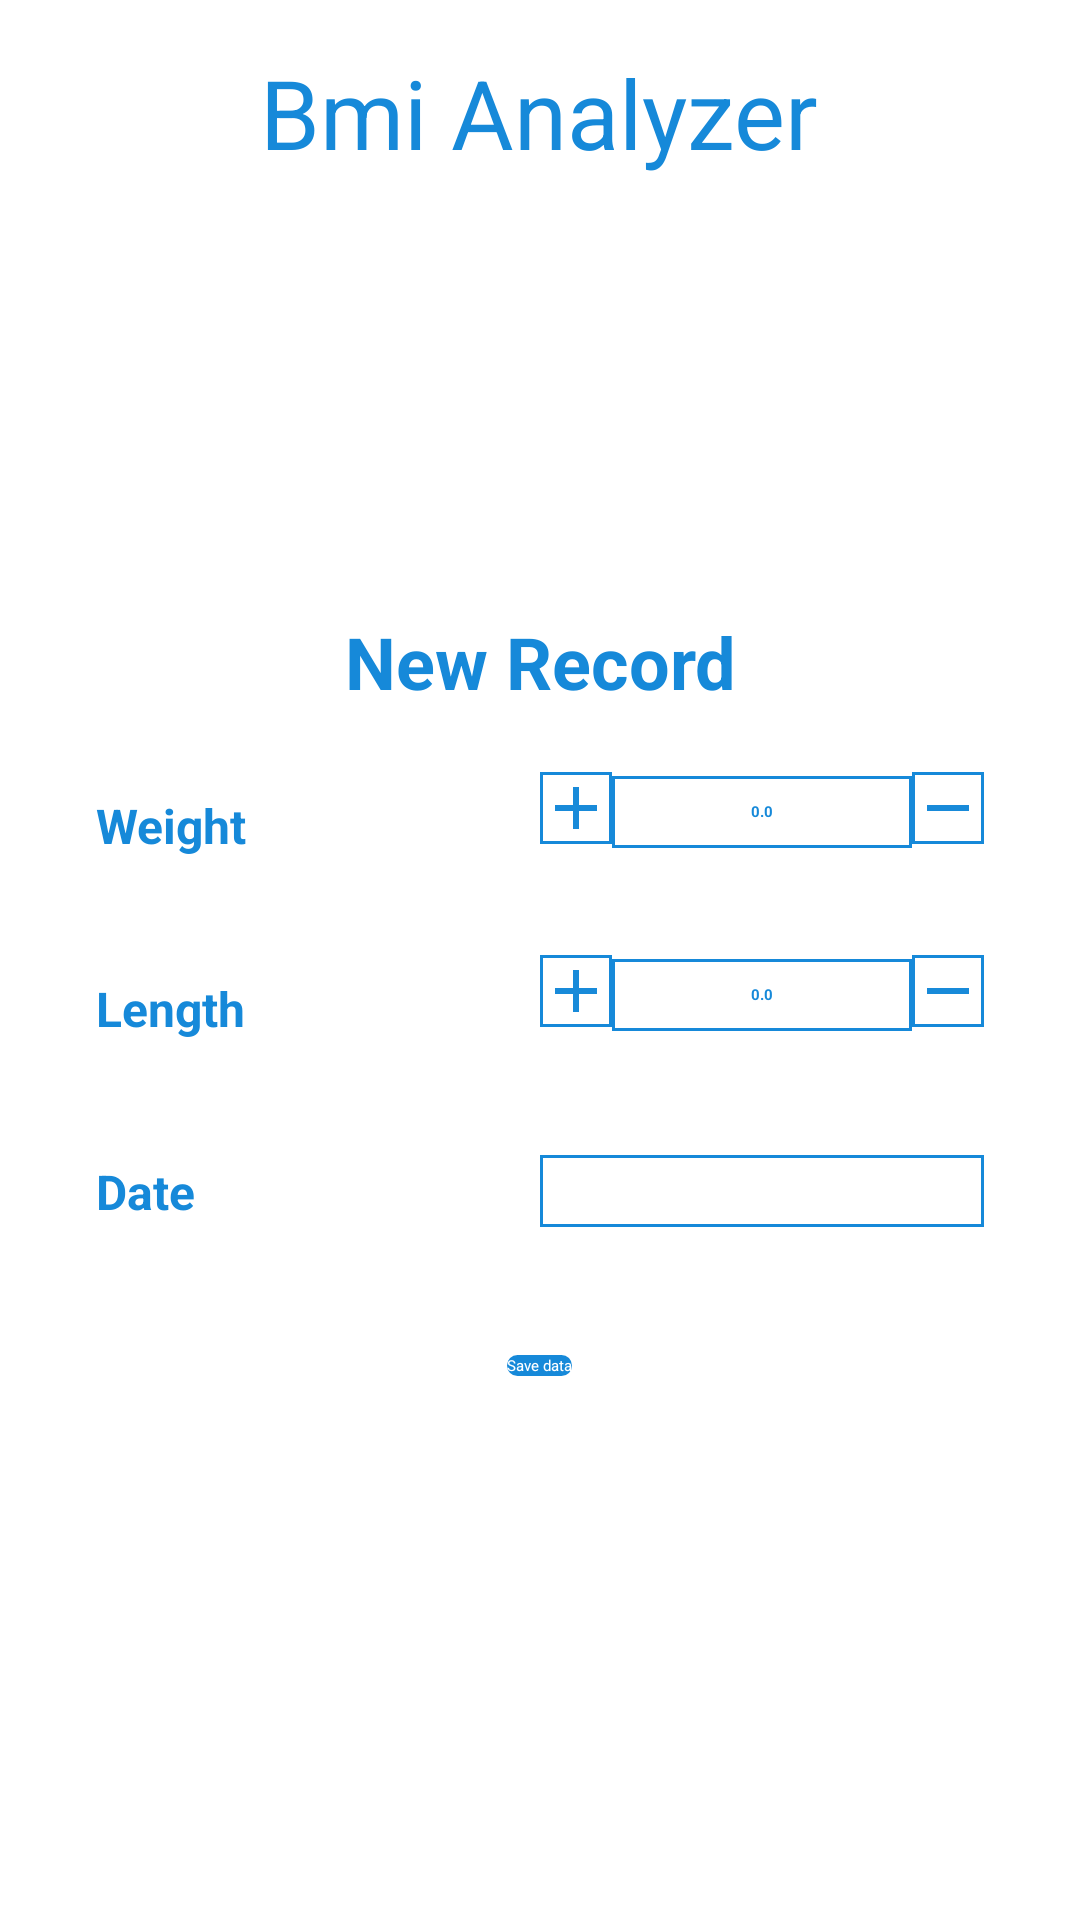

Named icons in this screenshot (1080 × 1920) and their bounding boxes, (x1, y1, x2, y2):
add: (540, 772, 612, 844), (540, 955, 612, 1027)
remove: (912, 772, 984, 844), (912, 955, 984, 1027)
